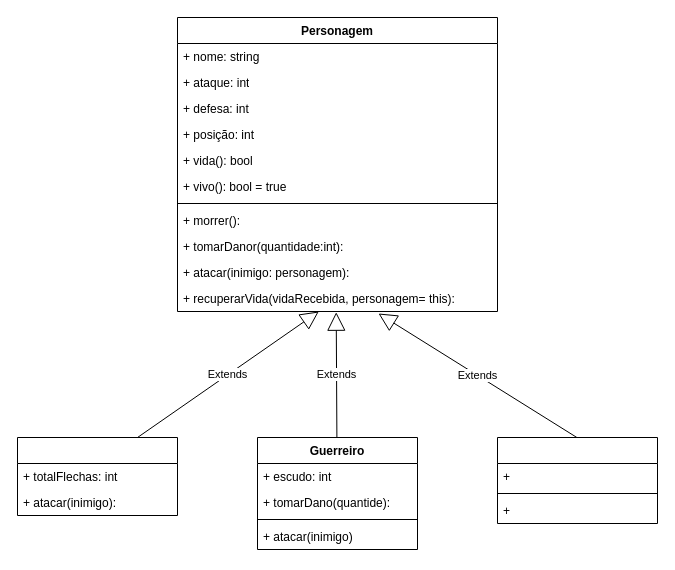
Image size: 675x570. Some labels were removed from this diagram. The box of each missing label's shape, as (x1, y1, x2, y2) in pixels:
Aqueiro: (16, 436, 178, 516)
Mago: (496, 436, 658, 524)
